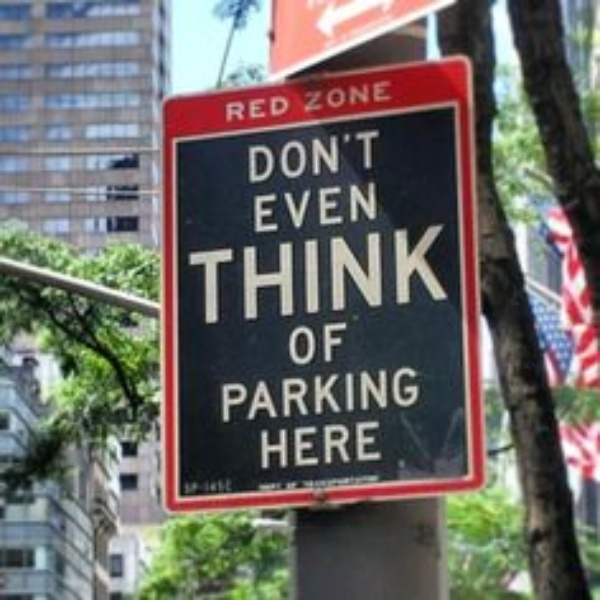text: (193, 222, 208, 326), (209, 222, 224, 326), (225, 222, 240, 326), (241, 222, 256, 326), (257, 222, 272, 326), (273, 222, 288, 326), (289, 222, 304, 326), (305, 222, 320, 326), (321, 222, 336, 326), (337, 222, 352, 326), (353, 222, 368, 326), (369, 222, 384, 326), (385, 222, 400, 326), (401, 222, 416, 326), (417, 222, 432, 326), (433, 222, 448, 326), (225, 364, 240, 423), (241, 364, 256, 423), (257, 364, 272, 423), (273, 364, 288, 423), (289, 364, 304, 423), (305, 364, 320, 423), (321, 364, 336, 423), (337, 364, 352, 423), (353, 364, 368, 423), (369, 364, 384, 423), (385, 364, 400, 423), (401, 364, 416, 423), (257, 128, 272, 186), (273, 128, 288, 186), (289, 128, 304, 186), (305, 128, 320, 186), (321, 128, 336, 186), (337, 128, 352, 186), (353, 128, 368, 186), (257, 181, 272, 234), (273, 181, 288, 234), (289, 181, 304, 234), (305, 181, 320, 234), (321, 181, 336, 234), (337, 181, 352, 234), (353, 181, 368, 234), (273, 420, 288, 471), (289, 420, 304, 471), (305, 420, 320, 471), (321, 420, 336, 471), (337, 420, 352, 471), (353, 420, 368, 471), (289, 321, 304, 367), (305, 321, 320, 367), (321, 321, 336, 367), (369, 420, 382, 471), (186, 222, 192, 326), (260, 420, 272, 471), (369, 128, 379, 186), (337, 321, 349, 367), (305, 79, 320, 115), (321, 79, 336, 115), (337, 79, 352, 115), (353, 79, 368, 115), (369, 79, 384, 115), (247, 128, 256, 186), (225, 92, 240, 125), (241, 92, 256, 125), (257, 92, 272, 125), (273, 92, 288, 125), (369, 181, 377, 234), (219, 364, 224, 423), (193, 478, 208, 496), (209, 478, 224, 496), (225, 478, 237, 496), (252, 181, 256, 234), (449, 222, 451, 326), (257, 478, 272, 491), (305, 476, 320, 489), (321, 476, 336, 489), (337, 476, 352, 489), (353, 476, 368, 489), (417, 364, 420, 423), (273, 478, 285, 491), (289, 478, 301, 491), (385, 79, 389, 115), (184, 478, 192, 496), (369, 476, 379, 489), (301, 79, 304, 115), (298, 476, 304, 489), (285, 478, 288, 491), (289, 92, 290, 125), (255, 478, 256, 491)
